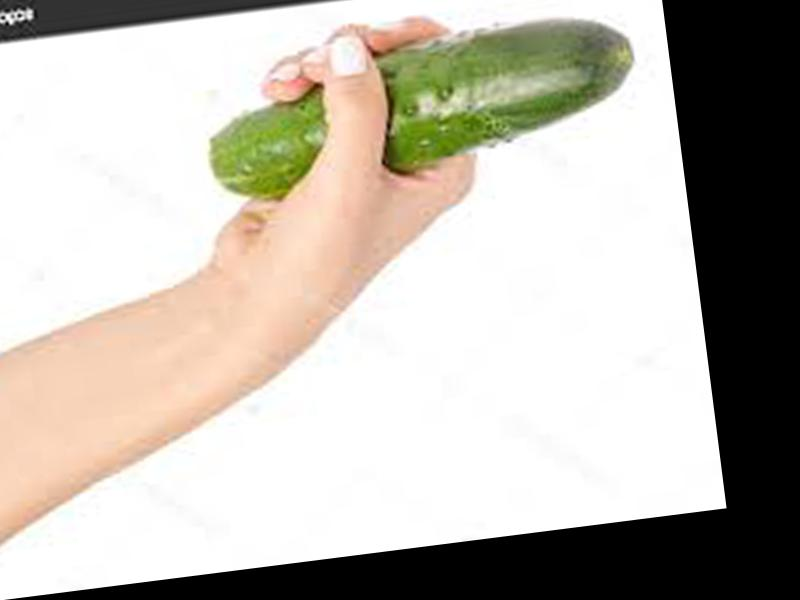Cucumber: (200, 9, 646, 206)
